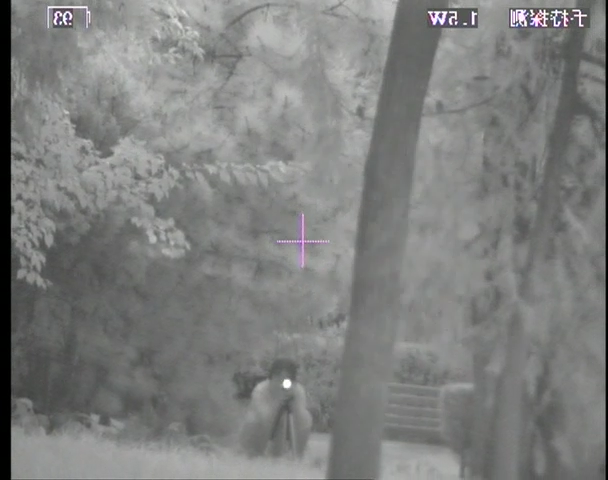my: (282, 378, 293, 390)
